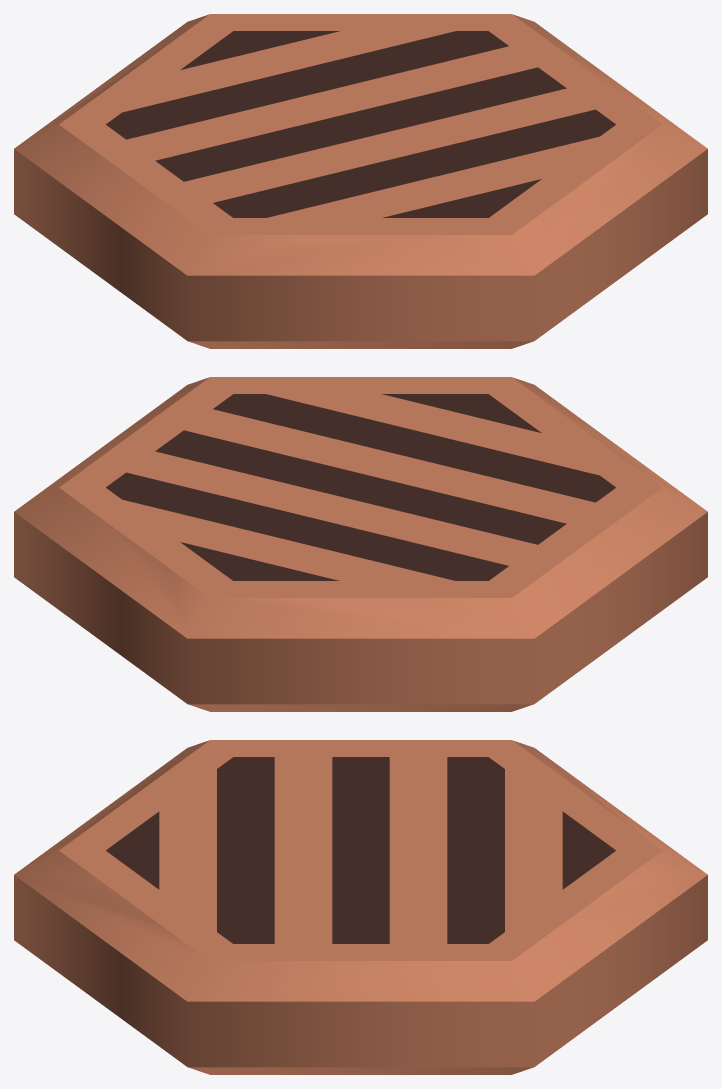
File: meatPatty.obj
The picture shows the model from 3 angles, top to bottom: view 1: azimuth 30°, elevation 25°; view 2: azimuth 150°, elevation 25°; view 3: azimuth 270°, elevation 25°; orthographic projection.
Visible parts, largest first — view 1: meatPatty; view 2: meatPatty; view 3: meatPatty.
Part boxes in pixels (left/top/right/bottom): meatPatty: left=14, top=14, right=707, bottom=348; meatPatty: left=14, top=377, right=707, bottom=711; meatPatty: left=14, top=740, right=707, bottom=1074.
Size of the model in its own units: 0.2988 by 0.0624 by 0.345.
